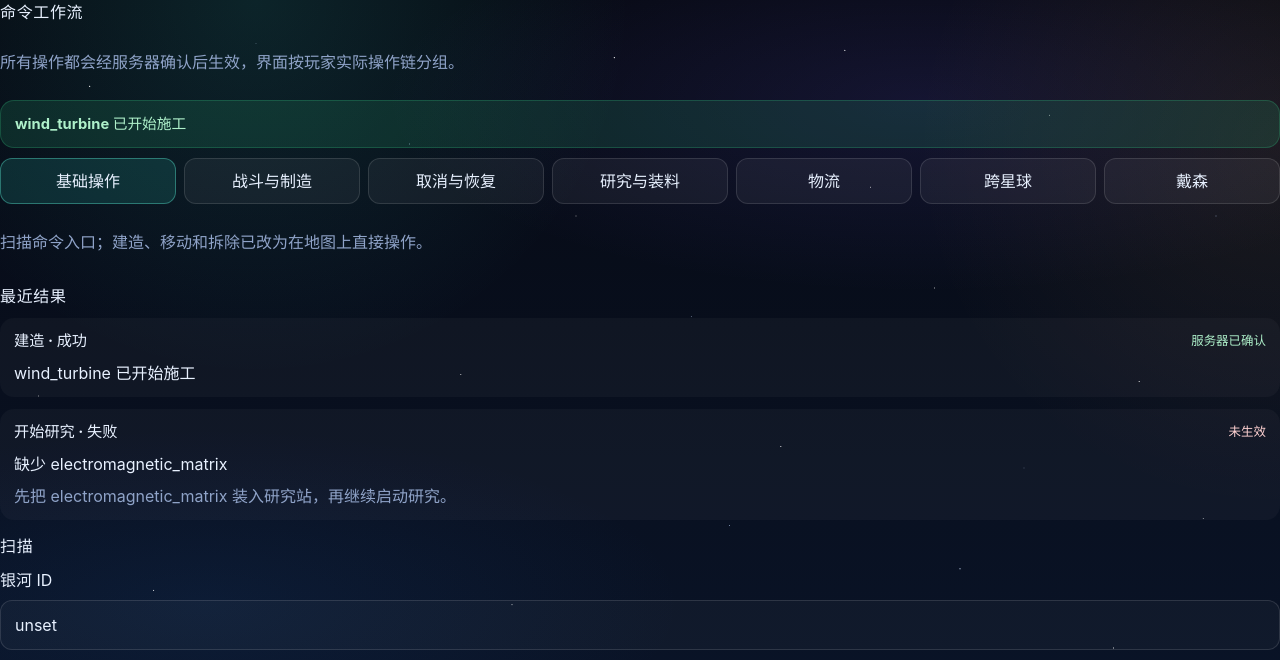
PlanetCommandPanel › 按工作流分组命令并展示最近结果历史
The width and height of the screenshot is (1280, 660).
Expected: the tab "基础操作" is shown, 0,158 -> 176,204
Expected: the tab "物流" is shown, 736,158 -> 912,204
Click the tab "研究与装料". click: (640, 181)
box: 552,158 -> 728,204
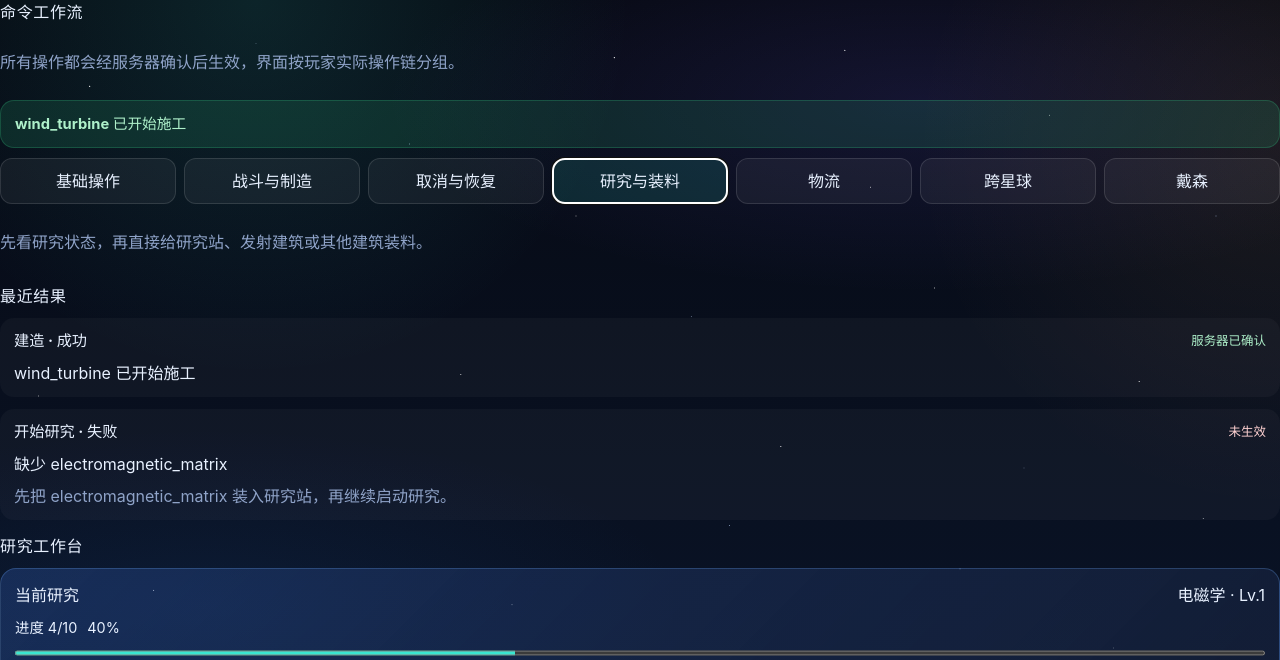
Expected: the text "最近结果" is shown, 0,286 -> 67,306
Expected: the text "当前研究" is shown, 15,583 -> 79,607
